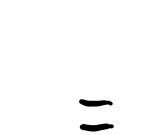eqv: (76, 93, 117, 133)
